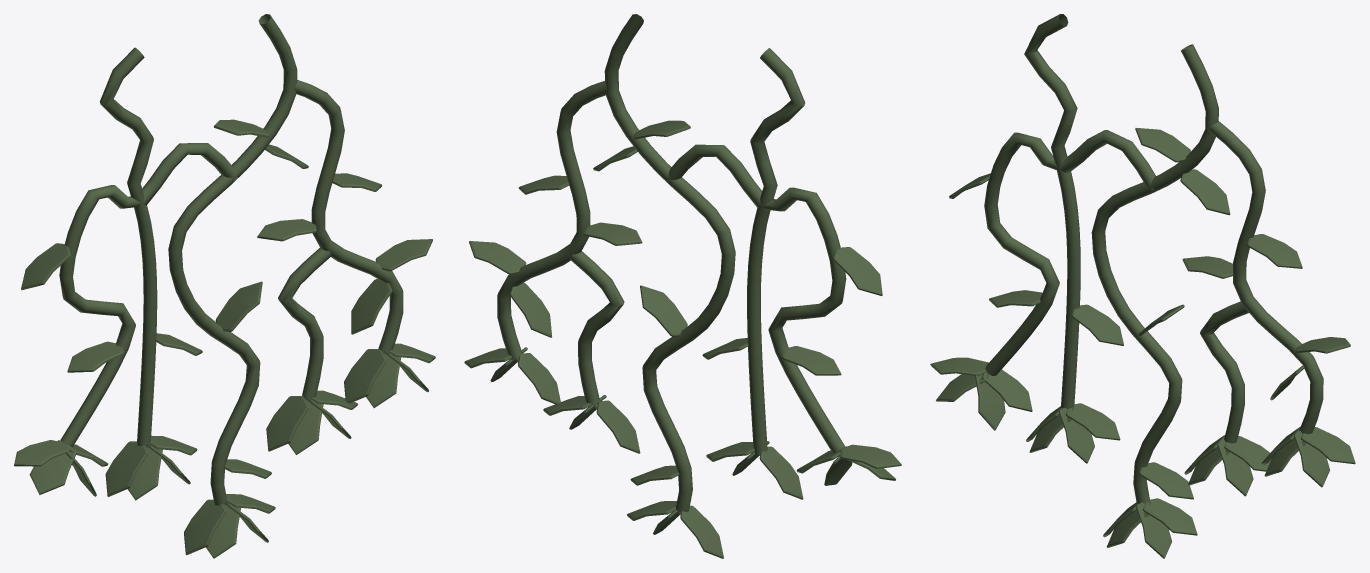
The model's file is Vines.fbx.
The picture shows the model from 3 angles, left to right: view 1: azimuth 30°, elevation 25°; view 2: azimuth 150°, elevation 25°; view 3: azimuth 330°, elevation 25°; orthographic projection. The views are drawn at different scales.
Parts seen in each view (by area): view 1: Vines; view 2: Vines; view 3: Vines.
Part boxes in pixels (x1,y1,x2,y2): Vines: (14,14,435,558); Vines: (464,14,901,558); Vines: (930,14,1355,558).
Size of the model in its own units: 3.47 by 4.02 by 0.4076.
